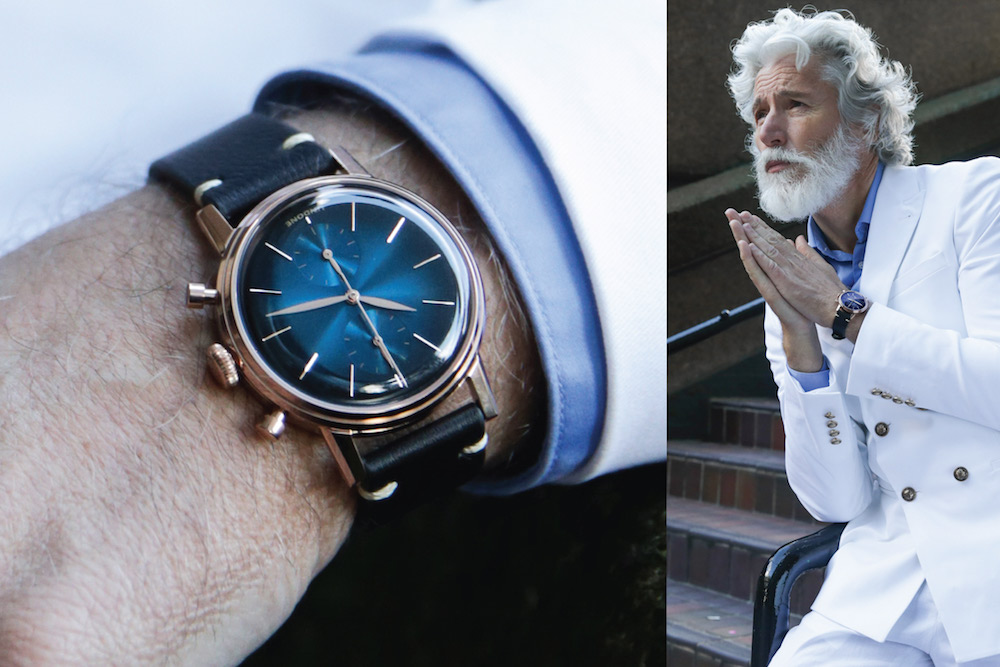clock: (234, 180, 478, 406)
